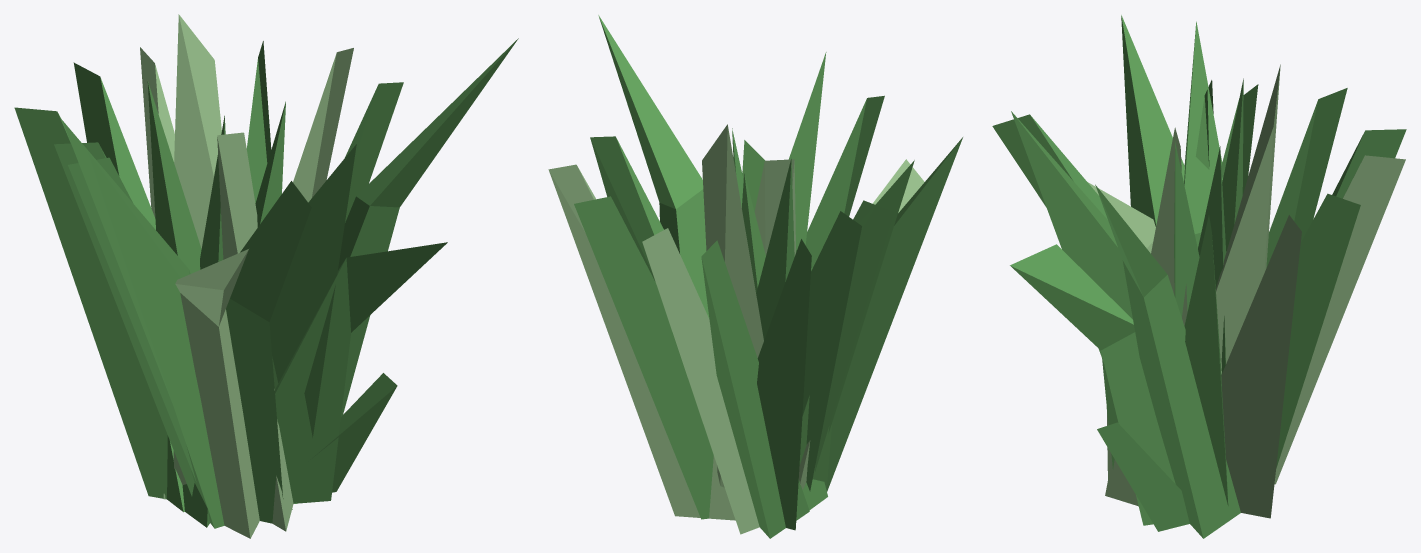
Rendered from grass_5.fbx.
The picture shows the model from 3 angles, left to right: view 1: azimuth 30°, elevation 25°; view 2: azimuth 150°, elevation 25°; view 3: azimuth 270°, elevation 25°; orthographic projection. The views are drawn at different scales.
Visible parts, largest first — view 1: grass.001; view 2: grass.001; view 3: grass.001.
Part boxes in pixels (x1=…): grass.001: x1=14, y1=14, x2=518, y2=538; grass.001: x1=548, y1=15, x2=962, y2=538; grass.001: x1=992, y1=15, x2=1406, y2=538.
Bounding box in the file's own units: 108 × 112 × 99.07.
